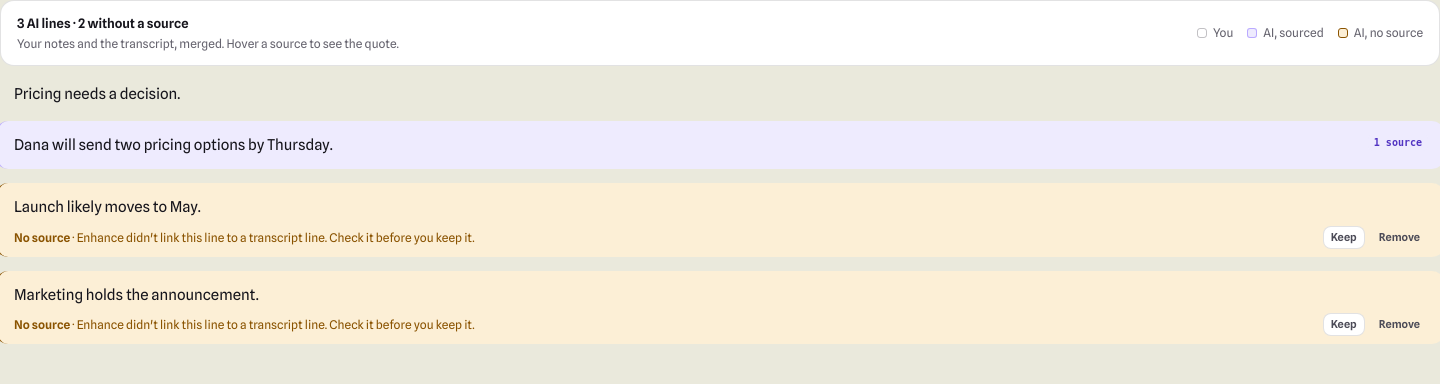
Test: EnhancedDoc trust › says so when Keep fails, and leaves the line alone
The width and height of the screenshot is (1440, 384).
Click the 1st button "Keep" at (1344, 237), box [1323,226,1365,248]
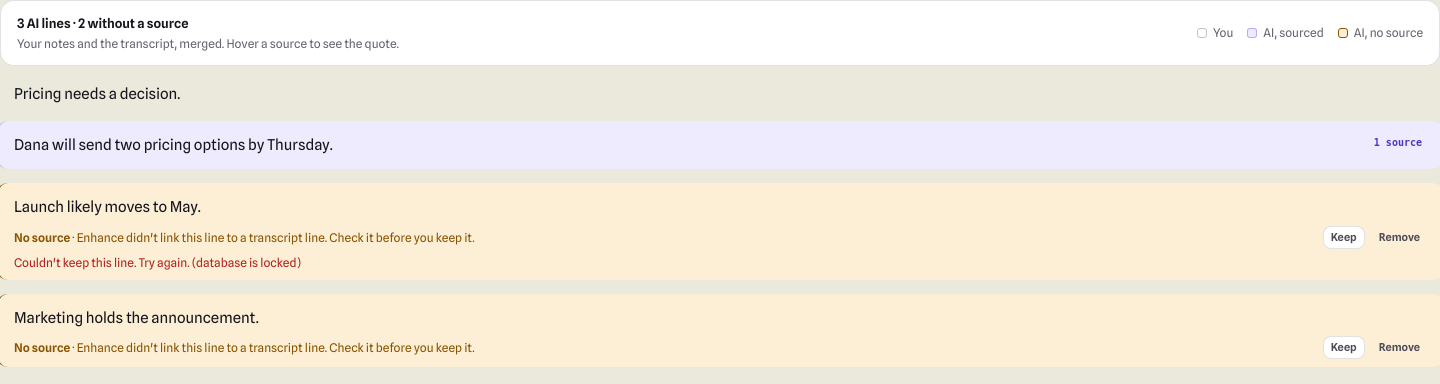
expect the message "Couldn't keep this line. Try again. (database is locked)" is shown: met, box [14,254,301,270]
